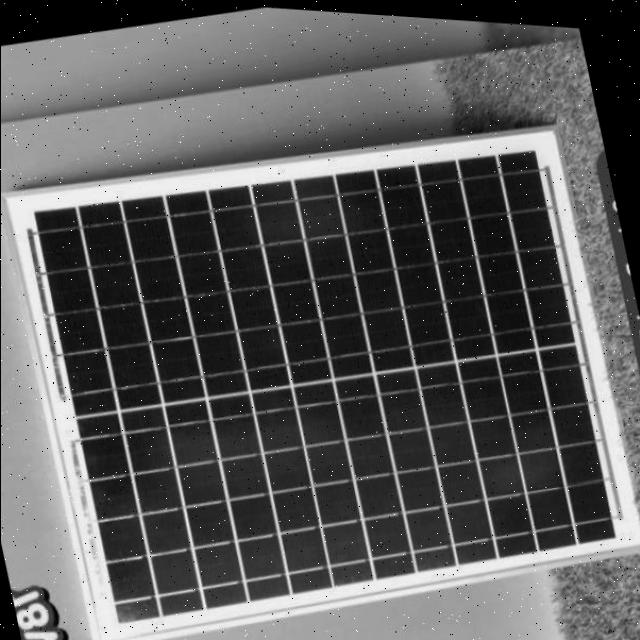Normal Solar Panel: (1, 79, 640, 640)
